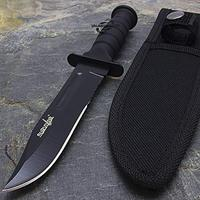knife: (1, 14, 130, 197)
